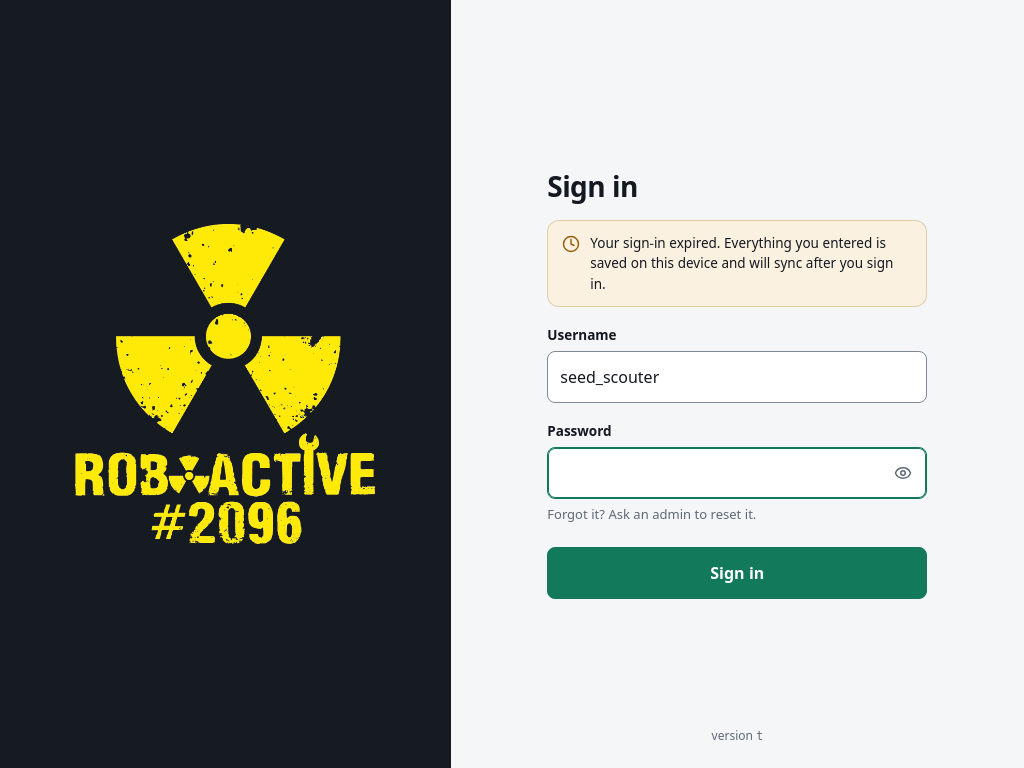
Test: LoginPage (SPEC-FINAL 7.3, 7.5) › does not expire an existing (expired-then-retrying) session on a wrong password
expect the field labelled "Username" holds "seed_scouter": met, box [547,351,927,403]
In the password field labelled "Password": coordinates (737, 473) [547,447,927,499], type "wrong"
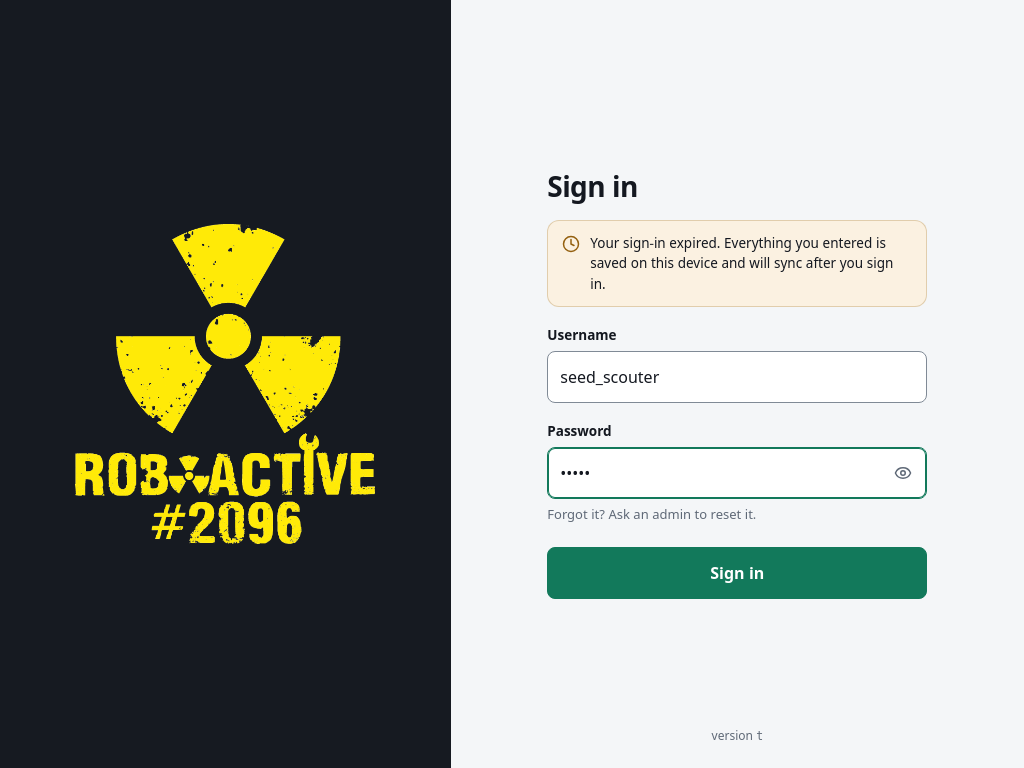
Click the button "Sign in": coordinates (737, 573) [547,547,927,599]
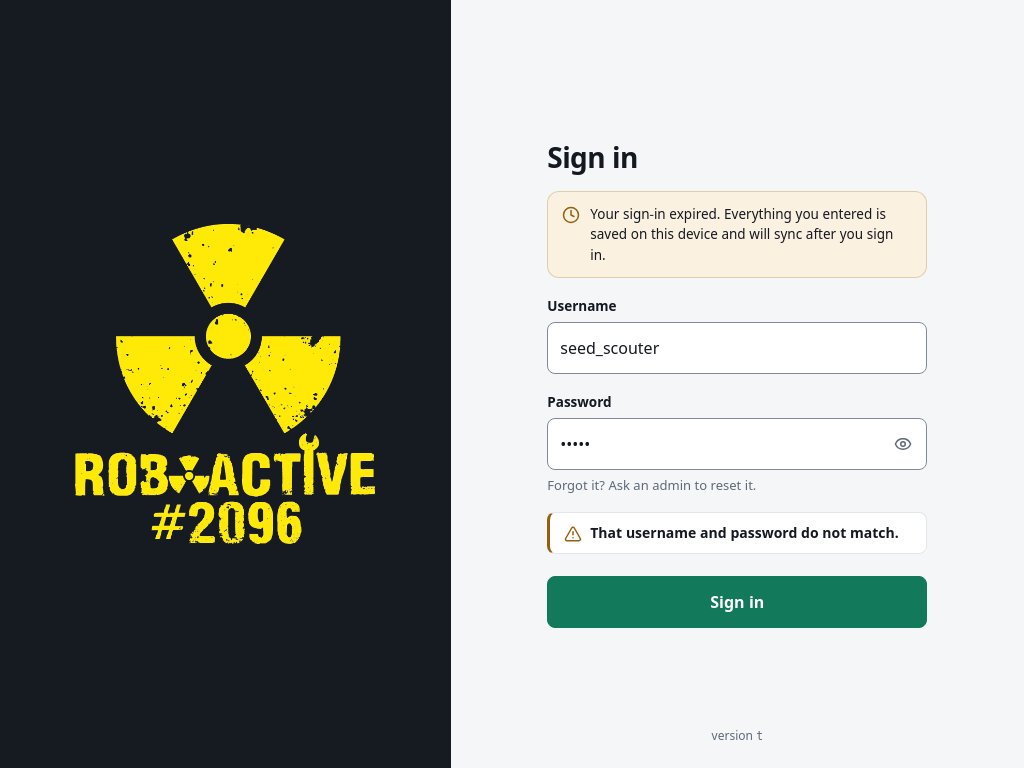
expect the message "That username and password do not match." is shown: met, box [547,512,927,554]
